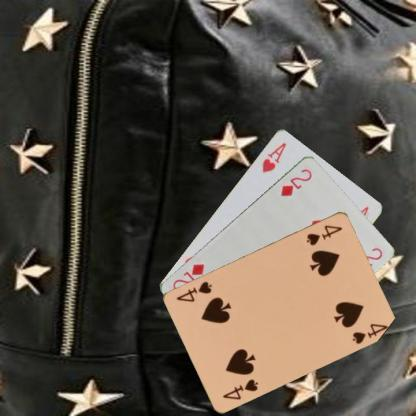2d: (277, 166, 313, 198)
4s: (304, 222, 344, 247), (220, 376, 260, 401)
Ah: (260, 140, 287, 174)
